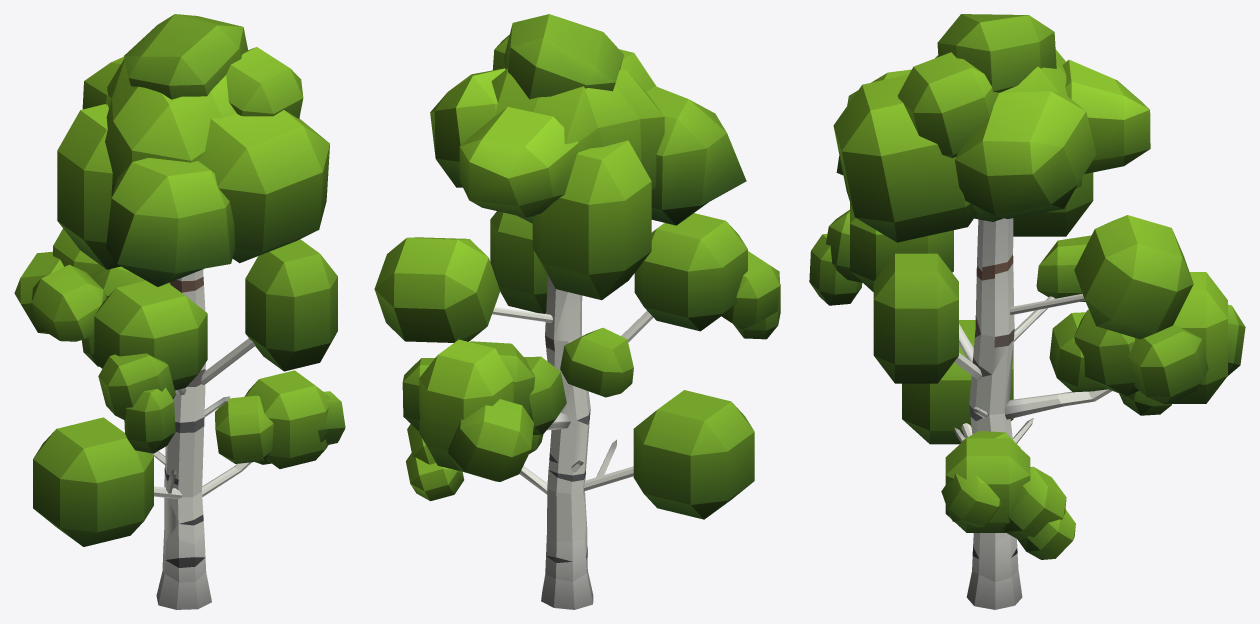
The model's file is xiangshu3.FBX.
The picture shows the model from 3 angles, left to right: view 1: azimuth 30°, elevation 25°; view 2: azimuth 150°, elevation 25°; view 3: azimuth 270°, elevation 25°; orthographic projection. The views are drawn at different scales.
Parts seen in each view (by area): view 1: SilverBirchTreeLarge_01 - Default_0; view 2: SilverBirchTreeLarge_01 - Default_0; view 3: SilverBirchTreeLarge_01 - Default_0.
Part boxes in pixels (x1,y1,x2,y2): SilverBirchTreeLarge_01 - Default_0: (14, 14, 345, 609); SilverBirchTreeLarge_01 - Default_0: (374, 14, 780, 609); SilverBirchTreeLarge_01 - Default_0: (809, 14, 1245, 609).
Bounding box in the file's own units: 39.1 × 70.55 × 47.46.
